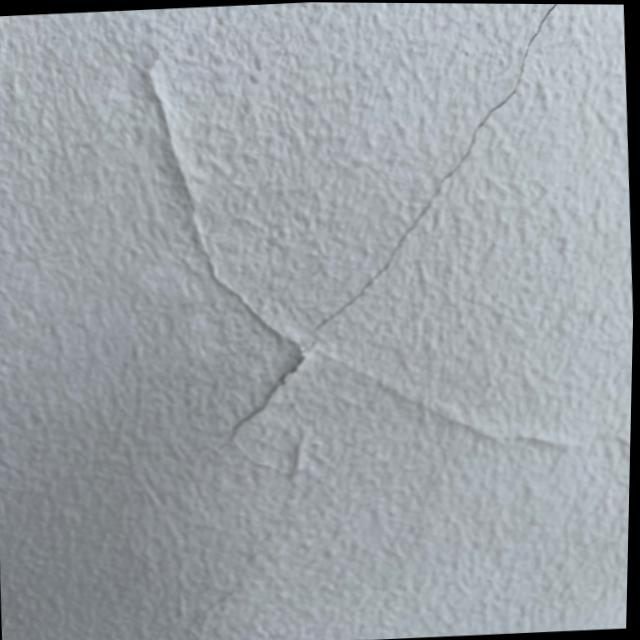Crack: (192, 1, 605, 484)
